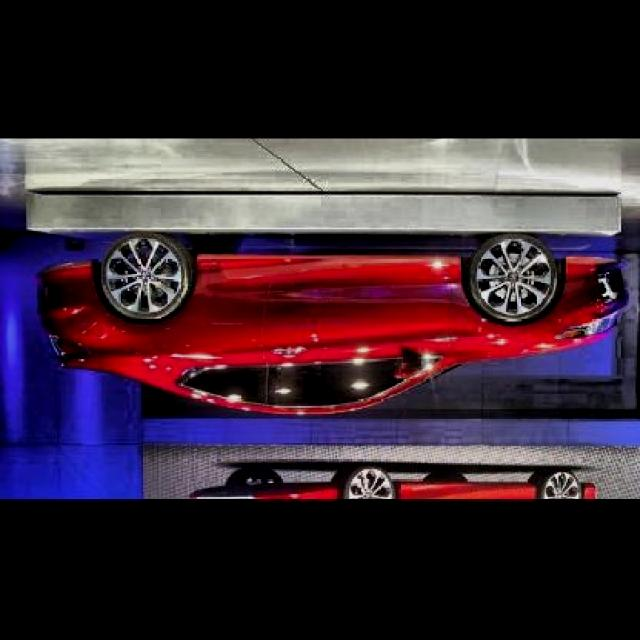red: (30, 240, 613, 418)
